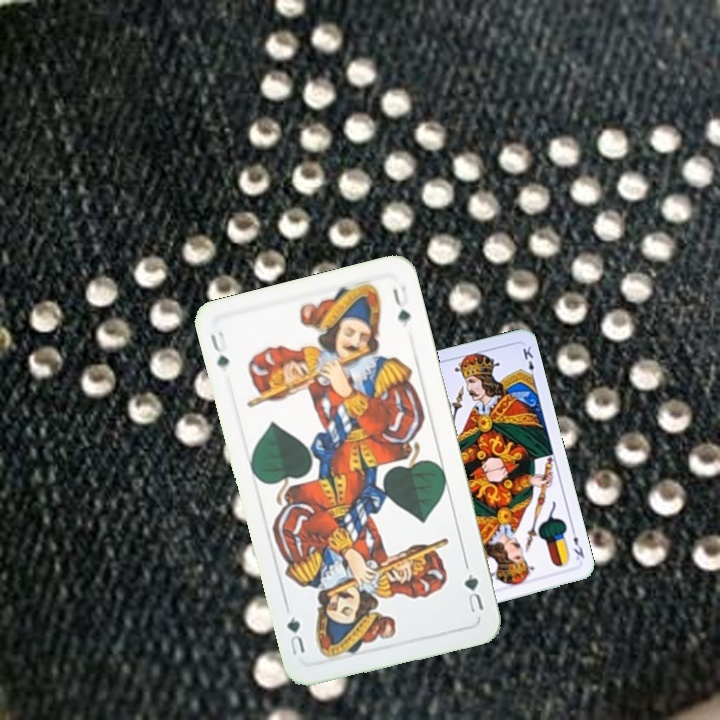EK: (568, 525, 587, 563)
GU: (460, 569, 487, 616), (206, 326, 232, 371)
